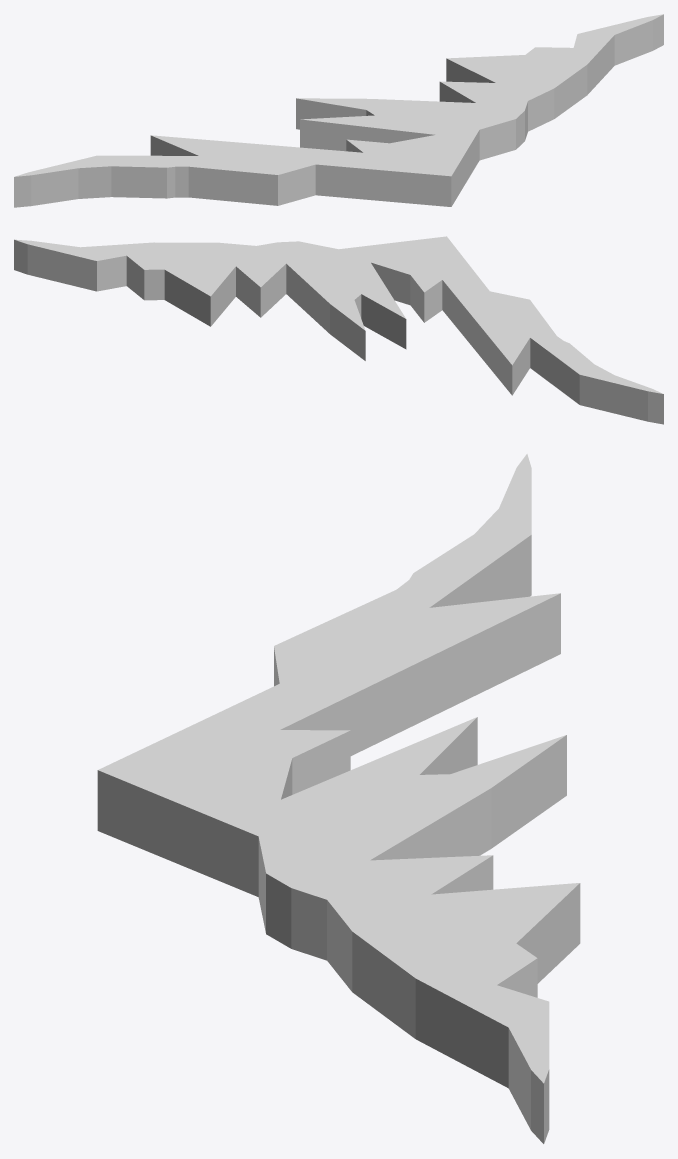
File: Mountain_3D_02.fbx
3 renders of one model, top to bottom at view 1: azimuth 30°, elevation 25°; view 2: azimuth 150°, elevation 25°; view 3: azimuth 270°, elevation 25°, orthographic. The views are drawn at different scales.
Parts seen in each view (by area): view 1: Mountain_3D_02; view 2: Mountain_3D_02; view 3: Mountain_3D_02.
Part boxes in pixels (left/top/right/bottom): Mountain_3D_02: left=14, top=14, right=663, bottom=207; Mountain_3D_02: left=14, top=236, right=663, bottom=424; Mountain_3D_02: left=97, top=454, right=580, bottom=1143.
Bounding box in the file's own units: 222 × 10 × 71.86.
